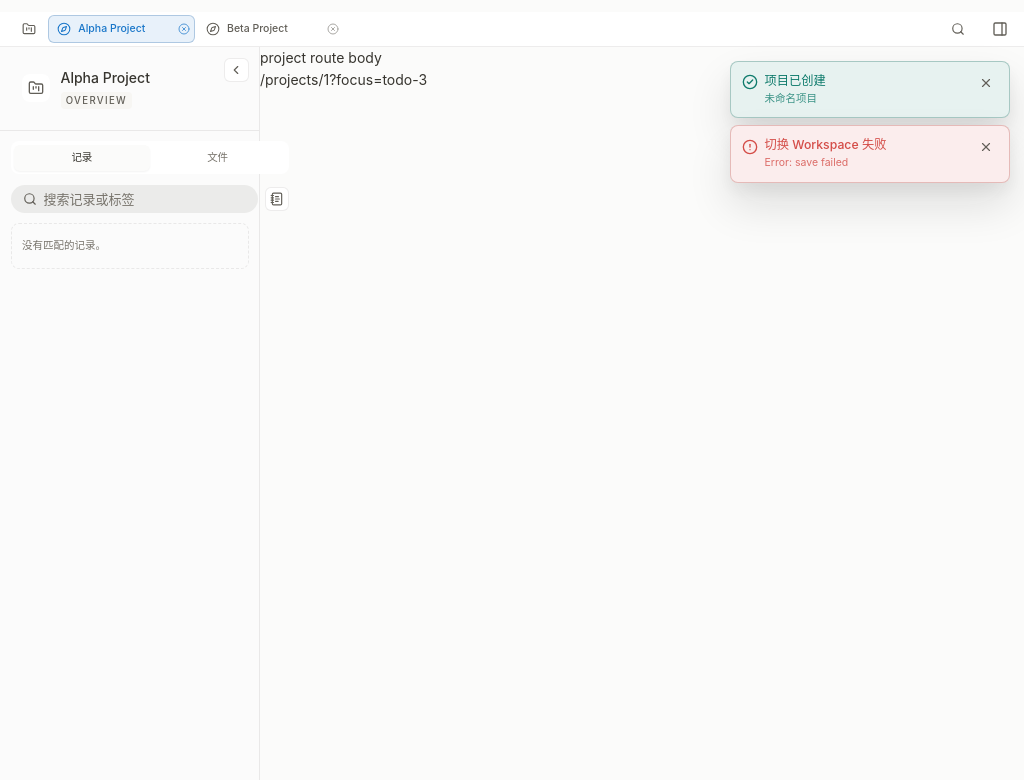
WorkspaceLayout › returns to the remembered project route when switching back by top tabs
Expected: the text "project route body" is shown, [260,49,382,66]
Expected: the text with test id "location-display" reads "/projects/1?focus=todo-3", [260,71,427,88]
Click the tab "Beta Project" at coordinates (261, 29), box [198,16,324,42]
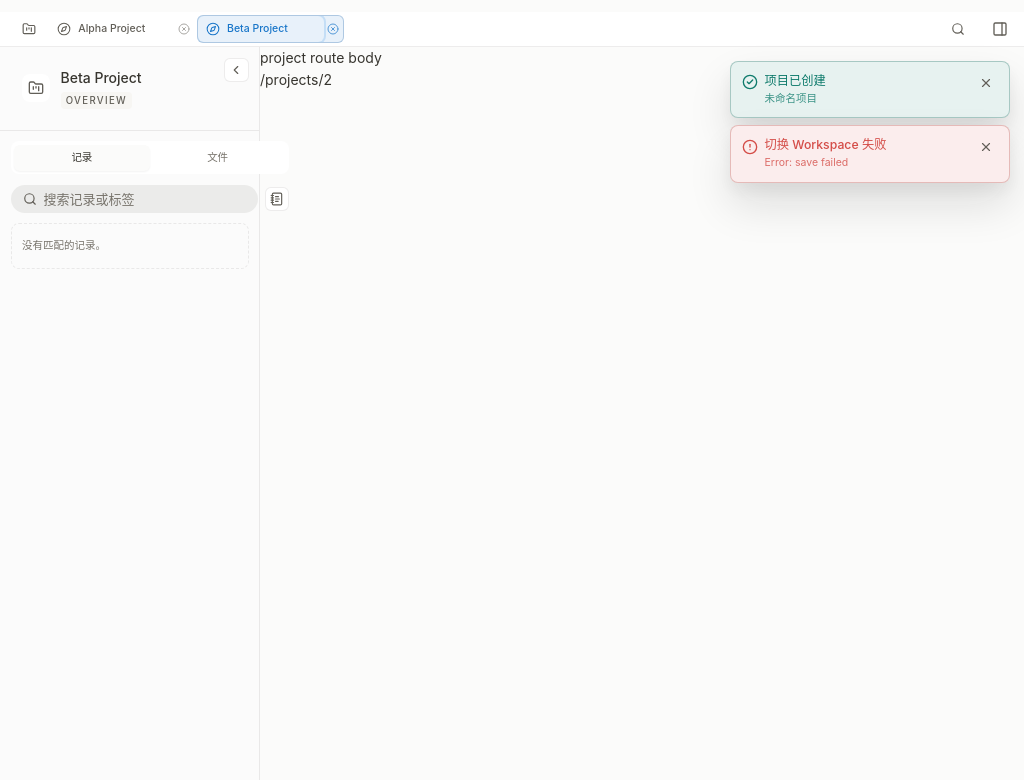
Expected: the text "project route body" is shown, [260,49,382,66]
Expected: the text with test id "location-display" reads "/projects/2", [260,71,332,88]
Click the tab "Alpha Project" at coordinates (112, 29), box [49,16,175,42]
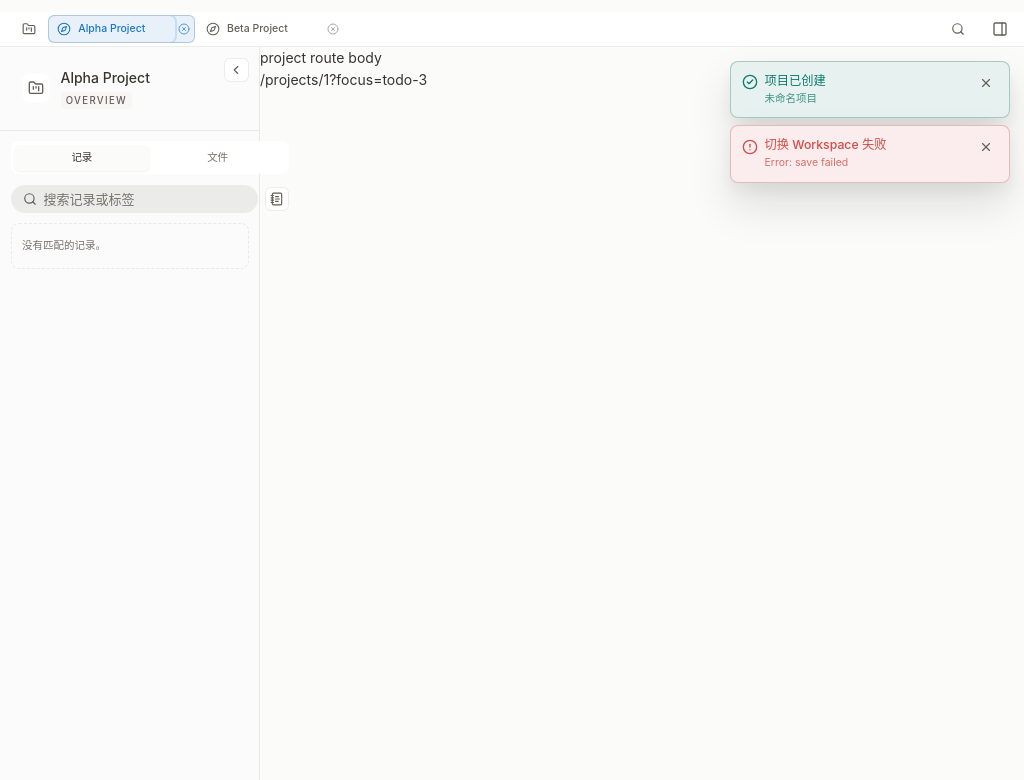
Expected: the text with test id "location-display" reads "/projects/1?focus=todo-3", [260,71,427,88]
